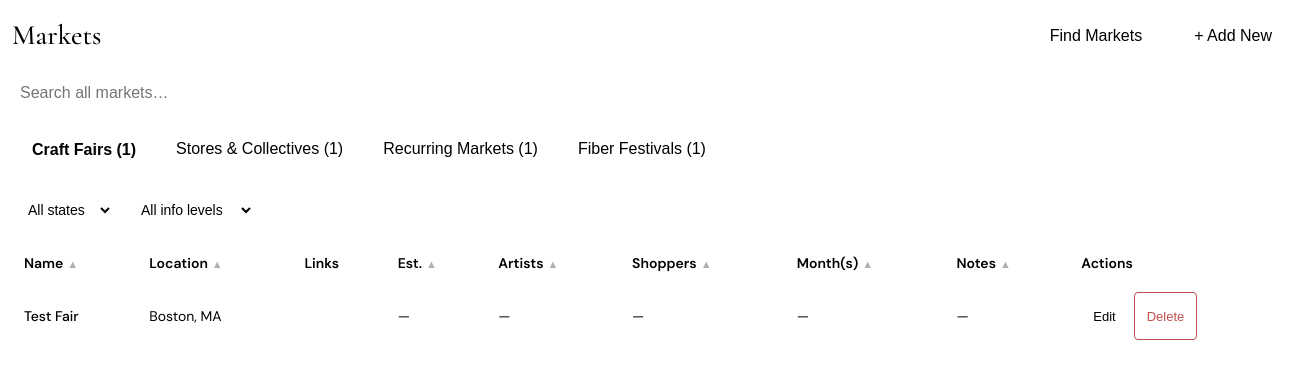
MarketsManager › tab switch shows Stores & Collectives
This screenshot has width=1289, height=367.
Click the button "Stores & Collectives (1)".
click(260, 150)  # box [156, 126, 363, 174]
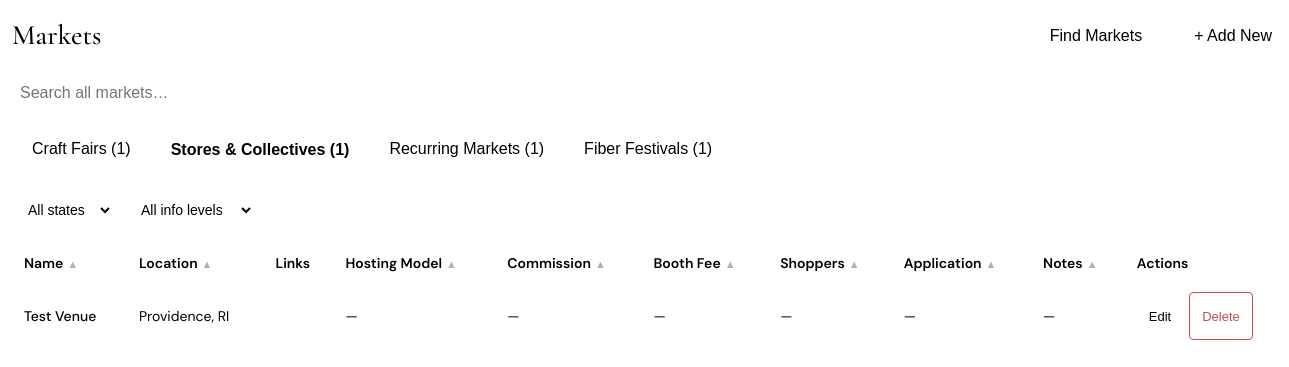
Expected: the text "Test Venue" is shown, [12, 282, 127, 350]
Expected: the text "Test Fair" is gone
